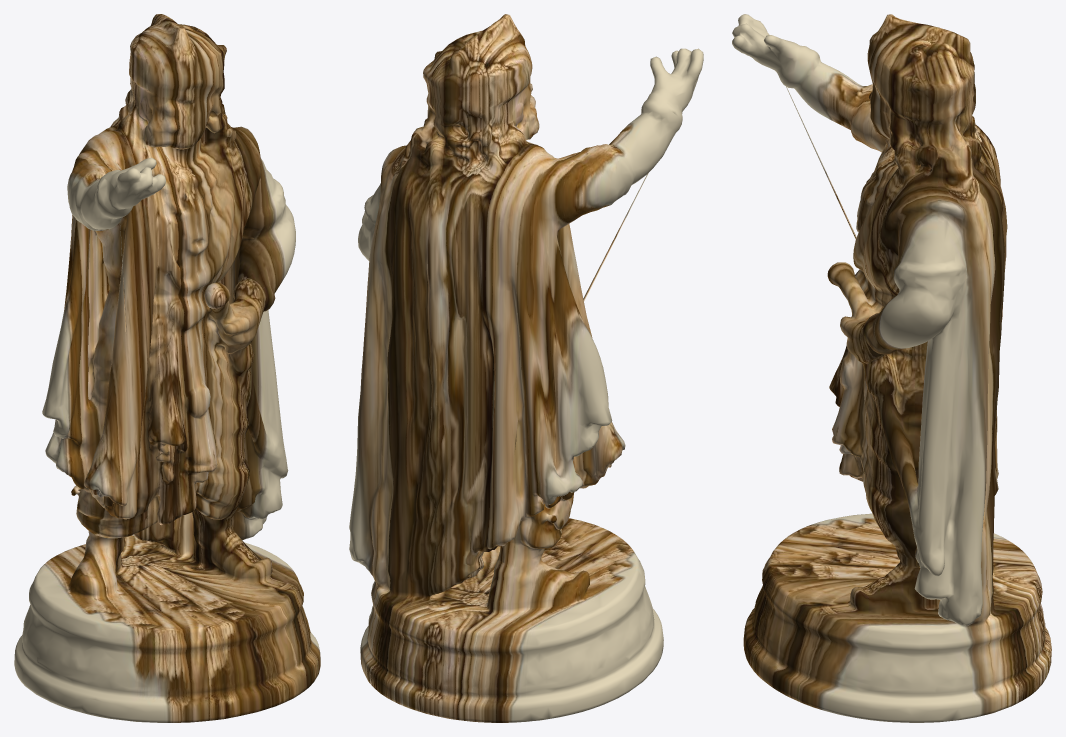
The model's file is mantri.glb.
3 renders of one model, left to right at view 1: azimuth 30°, elevation 25°; view 2: azimuth 150°, elevation 25°; view 3: azimuth 270°, elevation 25°, orthographic.
Visible parts, largest first — view 1: geometry_0; view 2: geometry_0; view 3: geometry_0.
Part boxes in pixels (bbox=[...]): geometry_0: bbox=[14, 14, 320, 722]; geometry_0: bbox=[349, 14, 703, 722]; geometry_0: bbox=[732, 14, 1051, 722].
Size of the model in its own units: 0.8637 by 1.98 by 0.8805.
1 material, 1 textured.
